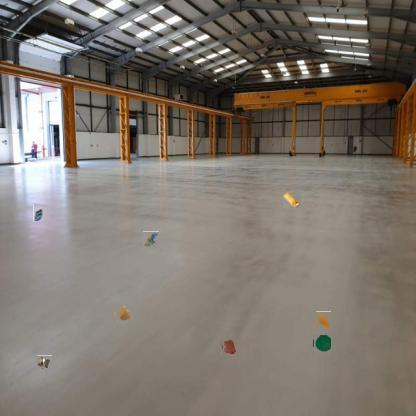dirty: (282, 190, 302, 208), (313, 335, 331, 353), (115, 305, 132, 323), (143, 232, 160, 248), (33, 204, 46, 222), (36, 355, 52, 368)
liquid: (315, 312, 332, 328), (221, 339, 237, 355)
